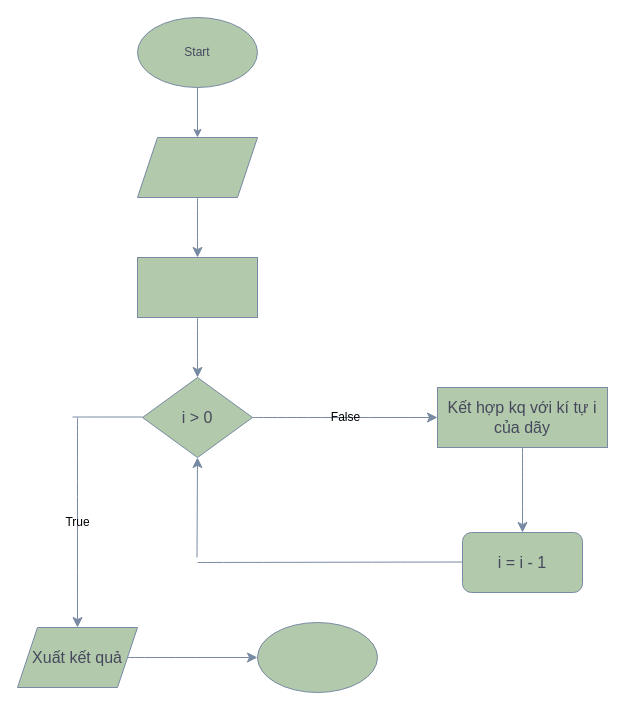
Some shapes in this 625 by 710 pixel diagram are drawn without their labels. The box of each missing label's shape, as (x1, y1, x2, y2) in pixels:
a, b ,c: (136, 136, 258, 198)
End: (256, 622, 378, 692)
i = Độ dài của dãy số Kết quả =: (136, 256, 258, 318)
